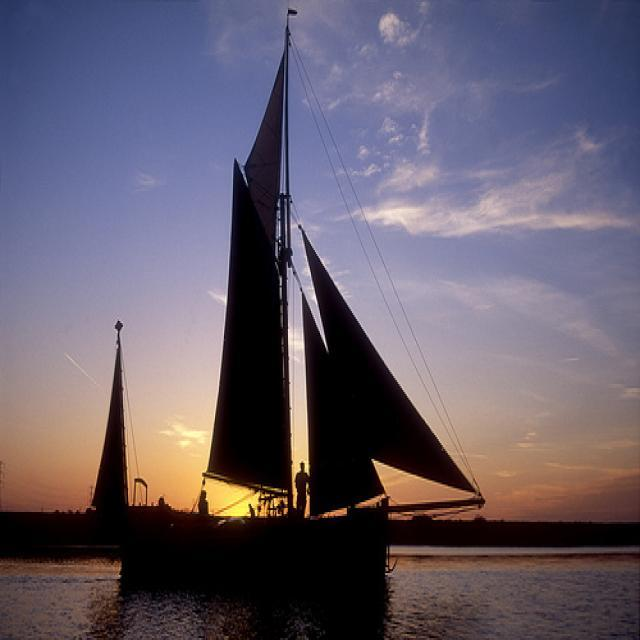Ship: (96, 24, 469, 605)
